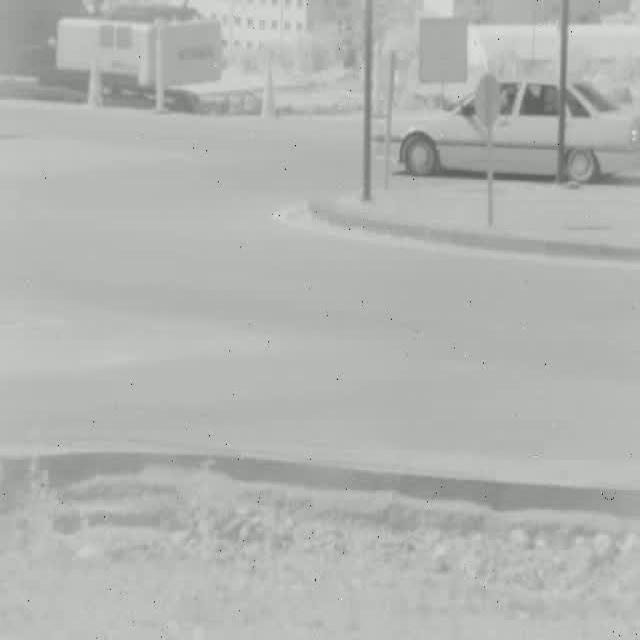Car: (372, 82, 640, 186)
